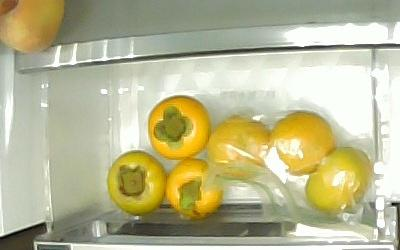persimmon: (147, 94, 211, 160), (106, 150, 166, 215), (165, 157, 223, 217)
persimmon_vinyl: (304, 145, 371, 215), (268, 110, 335, 176), (206, 115, 271, 180)
